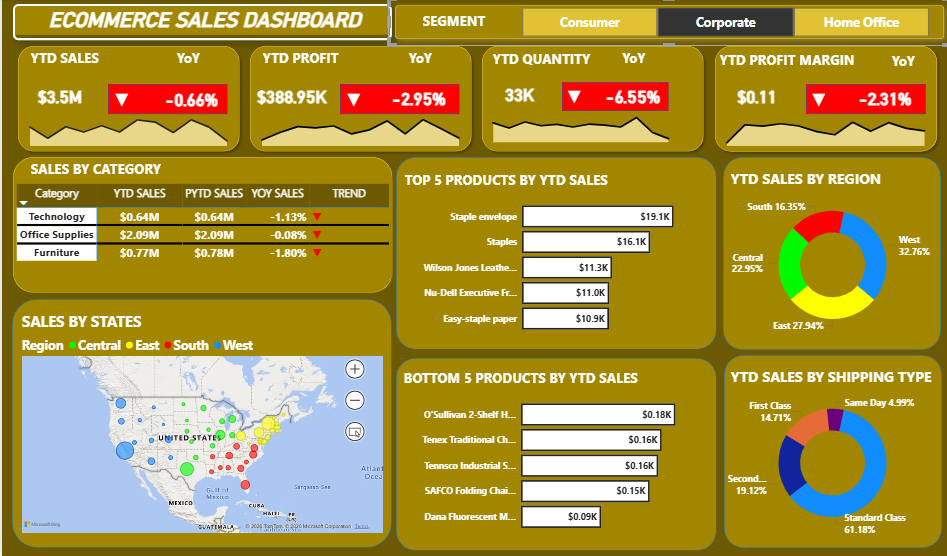

This screenshot's page, from the dashboard's own definition file:
{"tool":"powerbi","page":{"name":"Page 1","canvas":[1700,1000],"ordinal":0},"visuals":[{"type":"shape","box":[698.9,0,1001.8,86],"z":0,"group":"g11"},{"type":"shape","box":[19,77.9,415,207],"z":0,"group":"g1"},{"type":"shape","box":[435,77.9,415,207],"z":0,"group":"g2"},{"type":"shape","box":[850.9,77.9,415,207],"z":0,"group":"g3"},{"type":"shape","box":[1268.8,77.9,416,207],"z":0,"group":"g4"},{"type":"shape","box":[1292.1,284.9,390.7,345.9],"z":0,"group":"g9"},{"type":"shape","box":[1293.9,639.8,390.7,345.9],"z":0,"group":"g10"},{"type":"textbox","title":"ECOMMERCE SALES DASHBOARD","box":[19.7,10.8,679.2,64.5],"z":1000},{"type":"group","id":"g1","title":"Group 1","box":[19,77.9,416,207],"z":1000},{"type":"textbox","box":[45.3,86.6,167.1,45.2],"z":1000,"group":"g1"},{"type":"textbox","box":[461.3,86.6,167.1,45.2],"z":1000,"group":"g2"},{"type":"textbox","box":[874.1,89.5,202.8,45.3],"z":1000,"group":"g3"},{"type":"textbox","box":[1280.9,91.1,288,50.5],"z":1000,"group":"g4"},{"type":"group","id":"g2","title":"Group 1","box":[435,77.9,416,207],"z":2000},{"type":"textbox","box":[1093.9,86.3,75.4,55.3],"z":2000,"group":"g3"},{"type":"textbox","box":[291.3,86.6,84.5,57.4],"z":2000,"group":"g1"},{"type":"textbox","box":[707.3,86.6,84.5,57.4],"z":2000,"group":"g2"},{"type":"textbox","box":[1572.7,92.8,84.7,57.4],"z":2000,"group":"g4"},{"type":"group","id":"g3","title":"Group 1","box":[850.9,77.9,416,207],"z":3000},{"type":"areaChart","fields":{"Y":["Sum(ecommerce_data.order_quantity)"],"Category":["date.month"]},"box":[862.6,193.5,346.9,70.4],"z":3000,"group":"g3"},{"type":"areaChart","fields":{"Y":["Sum(ecommerce_data.sales_per_order)"],"Category":["date.month"]},"box":[32.1,197.9,388.7,73.1],"z":3000,"group":"g1"},{"type":"areaChart","fields":{"Y":["Sum(ecommerce_data.profit_per_order)"],"Category":["date.month"]},"box":[448.1,197.9,388.7,73.1],"z":3000,"group":"g2"},{"type":"areaChart","fields":{"Y":["ecommerce_data.PROFIT MARGIN"],"Category":["date.month"]},"box":[1282,197.9,389.6,73.1],"z":3000,"group":"g4"},{"type":"group","id":"g4","title":"Group 1","box":[1268.8,77.9,416,207],"z":4000},{"type":"card","fields":{"Values":["ecommerce_data.YTD QUANTITY"]},"box":[862.6,141.6,127.4,62],"z":4000,"group":"g3"},{"type":"card","fields":{"Values":["ecommerce_data.YTD SALES"]},"box":[32.1,144,142.7,64.4],"z":4000,"group":"g1"},{"type":"card","fields":{"Values":["ecommerce_data.YTD PROFIT"]},"box":[448.1,144,142.7,64.4],"z":4000,"group":"g2"},{"type":"card","fields":{"Values":["ecommerce_data.YTM PROFIT MARGIN"]},"box":[1282,144,143.1,64.4],"z":4000,"group":"g4"},{"type":"shape","box":[1003.4,151.6,191.1,52],"z":5000,"group":"g3"},{"type":"shape","box":[189.9,154.4,214.1,53.9],"z":5000,"group":"g1"},{"type":"shape","box":[605.9,154.4,214.1,53.9],"z":5000,"group":"g2"},{"type":"shape","box":[1440.1,154.5,214.6,53.9],"z":5000,"group":"g4"},{"type":"group","id":"g5","title":"Group 3","box":[19,284.9,680,243.1],"z":5000},{"type":"shape","box":[19,284.9,680,243.1],"z":5000,"group":"g5"},{"type":"card","fields":{"Values":["ecommerce_data.YOY QUANTITY"]},"box":[1069.2,153.2,120.7,45.3],"z":6000,"group":"g3"},{"type":"card","fields":{"Values":["ecommerce_data.YOY PROFIT"]},"box":[679.5,156,135.2,47],"z":6000,"group":"g2"},{"type":"card","fields":{"Values":["ecommerce_data.YOY PROFIT MARGIN"]},"box":[1513.9,156,135.5,47],"z":6000,"group":"g4"},{"type":"card","fields":{"Values":["ecommerce_data.YOY SALES"]},"box":[278.1,159.7,120.2,41.7],"z":6000,"group":"g1"},{"type":"pivotTable","fields":{"Rows":["ecommerce_data.category_name"],"Values":["ecommerce_data.YTD SALES","ecommerce_data.PYTD SALES","ecommerce_data.YOY SALES","ecommerce_data.SALES ICON"]},"box":[20.9,328.6,678.1,172.8],"z":6000,"group":"g5"},{"type":"shape","box":[18.1,540.2,680.7,445.8],"z":6000,"group":"g6"},{"type":"map","title":"SALES BY STATES","fields":{"Y":["us_state_long_lat_codes.latitude"],"X":["us_state_long_lat_codes.longitude"],"Size":["ecommerce_data.YTD SALES"],"Series":["ecommerce_data.customer_region"]},"box":[30.1,562.3,656.6,401.6],"z":6001,"group":"g6"},{"type":"shape","box":[706.8,285.1,574.3,345],"z":6002,"group":"g7"},{"type":"shape","box":[706.8,644.6,574.3,345.4],"z":6003,"group":"g8"},{"type":"clusteredBarChart","title":"TOP 5 PRODUCTS BY YTD SALES","fields":{"Category":["ecommerce_data.product_name"],"Y":["ecommerce_data.YTD SALES"]},"box":[718.3,307.8,551,310.1],"z":6004,"group":"g7"},{"type":"group","id":"g6","title":"Group 4","box":[18.1,540.2,680.7,445.8],"z":6005},{"type":"clusteredBarChart","title":"BOTTOM 5 PRODUCTS BY YTD SALES","fields":{"Category":["ecommerce_data.product_name"],"Y":["ecommerce_data.YTD SALES"]},"box":[716.5,661.7,552,310.8],"z":6006,"group":"g8"},{"type":"group","id":"g7","title":"Group 5","box":[706.8,285.1,574.3,345],"z":6007},{"type":"group","id":"g8","title":"Group 6","box":[706.8,644.6,574.3,345.4],"z":6008},{"type":"donutChart","title":"YTD SALES BY REGION","fields":{"Category":["ecommerce_data.customer_region"],"Y":["ecommerce_data.YTD SALES"]},"box":[1301.5,307.1,374.7,310.8],"z":6011,"group":"g9"},{"type":"donutChart","title":"YTD SALES BY SHIPPING TYPE","fields":{"Y":["ecommerce_data.YTD SALES"],"Category":["ecommerce_data.shipping_type"]},"box":[1301.5,661.7,374.7,310.8],"z":6012,"group":"g10"},{"type":"slicer","fields":{"Values":["ecommerce_data.customer_segment"]},"box":[913.2,10.8,772.2,64.6],"z":6013,"group":"g11"},{"type":"textbox","box":[755.9,19.7,142.3,44.9],"z":6014,"group":"g11"},{"type":"group","id":"g9","title":"Group 7","box":[1292.1,284.9,390.7,345.9],"z":6015},{"type":"group","id":"g10","title":"Group 8","box":[1293.9,639.8,390.7,345.9],"z":6016},{"type":"group","id":"g11","title":"Group 9","box":[698.9,0,1001.8,86],"z":6017},{"type":"card","fields":{"Values":["ecommerce_data.QUANTITY ICON"]},"box":[990,158.3,68.7,38.5],"z":7000,"group":"g3"},{"type":"card","fields":{"Values":["ecommerce_data.SALES ICON"]},"box":[174.9,161.4,77,40],"z":7000,"group":"g1"},{"type":"card","fields":{"Values":["ecommerce_data.PROFIT ICON"]},"box":[590.9,161.4,77,40],"z":7000,"group":"g2"},{"type":"card","fields":{"Values":["ecommerce_data.PROFIT MARIGN ICON"]},"box":[1425,161.4,77.2,40],"z":7000,"group":"g4"},{"type":"textbox","box":[45.6,284.9,269.7,43.7],"z":7000,"group":"g5"}]}

Visuals, with their boxes in screenshot pixels (x1, y1, x2, y2), scaled from the page's 1700x1000 canvas onto the 947x556 screenshot:
shape: select_region(389, 0, 946, 48)
shape: select_region(11, 43, 242, 158)
shape: select_region(242, 43, 473, 158)
shape: select_region(474, 43, 705, 158)
shape: select_region(707, 43, 939, 158)
shape: select_region(720, 158, 937, 351)
shape: select_region(721, 356, 938, 548)
"ECOMMERCE SALES DASHBOARD" textbox: select_region(11, 6, 389, 42)
"Group 1" group: select_region(11, 43, 242, 158)
textbox: select_region(25, 48, 118, 73)
textbox: select_region(257, 48, 350, 73)
textbox: select_region(487, 50, 600, 75)
textbox: select_region(714, 51, 874, 79)
"Group 1" group: select_region(242, 43, 474, 158)
textbox: select_region(609, 48, 651, 79)
textbox: select_region(162, 48, 209, 80)
textbox: select_region(394, 48, 441, 80)
textbox: select_region(876, 52, 923, 84)
"Group 1" group: select_region(474, 43, 706, 158)
areaChart - Sum(ecommerce_data.order_quantity) x date.month: select_region(481, 108, 674, 147)
areaChart - Sum(ecommerce_data.sales_per_order) x date.month: select_region(18, 110, 234, 151)
areaChart - Sum(ecommerce_data.profit_per_order) x date.month: select_region(250, 110, 466, 151)
areaChart - ecommerce_data.PROFIT MARGIN x date.month: select_region(714, 110, 931, 151)
"Group 1" group: select_region(707, 43, 939, 158)
card - ecommerce_data.YTD QUANTITY: select_region(481, 79, 551, 113)
card - ecommerce_data.YTD SALES: select_region(18, 80, 97, 116)
card - ecommerce_data.YTD PROFIT: select_region(250, 80, 329, 116)
card - ecommerce_data.YTM PROFIT MARGIN: select_region(714, 80, 794, 116)
shape: select_region(559, 84, 665, 113)
shape: select_region(106, 86, 225, 116)
shape: select_region(338, 86, 457, 116)
shape: select_region(802, 86, 922, 116)
"Group 3" group: select_region(11, 158, 389, 294)
shape: select_region(11, 158, 389, 294)
card - ecommerce_data.YOY QUANTITY: select_region(596, 85, 663, 110)
card - ecommerce_data.YOY PROFIT: select_region(379, 87, 454, 113)
card - ecommerce_data.YOY PROFIT MARGIN: select_region(843, 87, 919, 113)
card - ecommerce_data.YOY SALES: select_region(155, 89, 222, 112)
pivotTable - ecommerce_data.category_name x ecommerce_data.YTD SALES: select_region(12, 183, 389, 279)
shape: select_region(10, 300, 389, 548)
"SALES BY STATES" map: select_region(17, 313, 383, 536)
shape: select_region(394, 159, 714, 350)
shape: select_region(394, 358, 714, 550)
"TOP 5 PRODUCTS BY YTD SALES" clusteredBarChart: select_region(400, 171, 707, 344)
"Group 4" group: select_region(10, 300, 389, 548)
"BOTTOM 5 PRODUCTS BY YTD SALES" clusteredBarChart: select_region(399, 368, 707, 541)
"Group 5" group: select_region(394, 159, 714, 350)
"Group 6" group: select_region(394, 358, 714, 550)
"YTD SALES BY REGION" donutChart: select_region(725, 171, 934, 344)
"YTD SALES BY SHIPPING TYPE" donutChart: select_region(725, 368, 934, 541)
slicer - ecommerce_data.customer_segment: select_region(509, 6, 939, 42)
textbox: select_region(421, 11, 500, 36)
"Group 7" group: select_region(720, 158, 937, 351)
"Group 8" group: select_region(721, 356, 938, 548)
"Group 9" group: select_region(389, 0, 946, 48)
card - ecommerce_data.QUANTITY ICON: select_region(551, 88, 590, 109)
card - ecommerce_data.SALES ICON: select_region(97, 90, 140, 112)
card - ecommerce_data.PROFIT ICON: select_region(329, 90, 372, 112)
card - ecommerce_data.PROFIT MARIGN ICON: select_region(794, 90, 837, 112)
textbox: select_region(25, 158, 176, 183)
